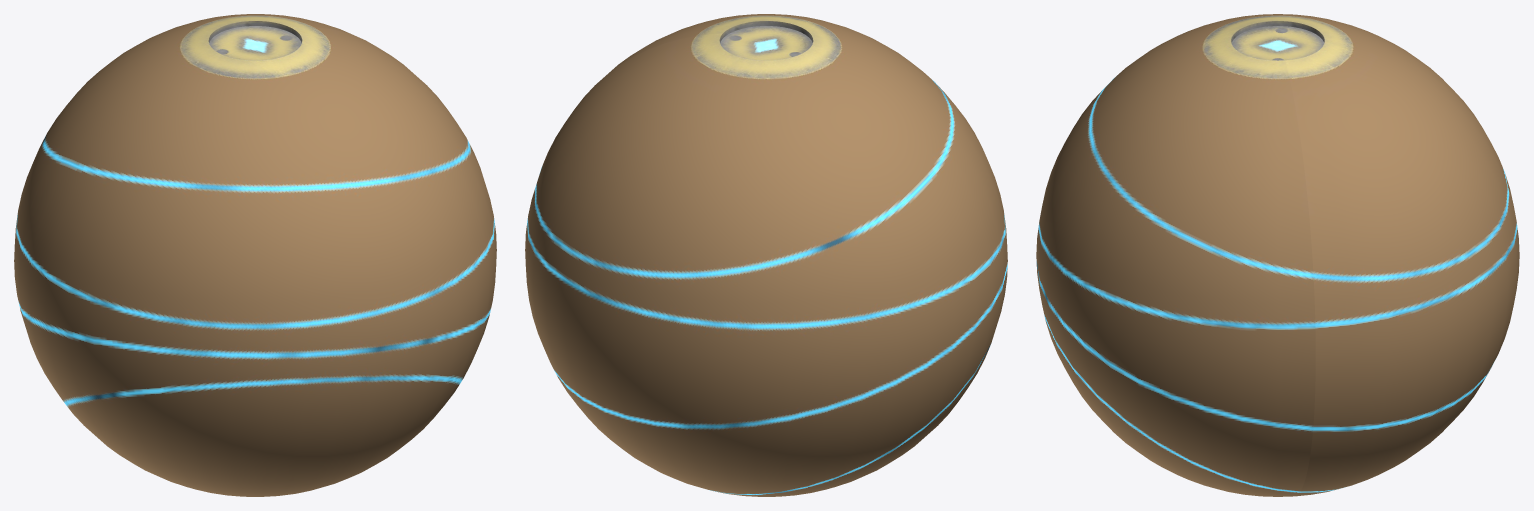
The model's file is OrbPickup.gltf.
The picture shows the model from 3 angles, left to right: view 1: azimuth 30°, elevation 25°; view 2: azimuth 150°, elevation 25°; view 3: azimuth 270°, elevation 25°; orthographic projection.
Parts seen in each view (by area): view 1: apple_low; view 2: apple_low; view 3: apple_low.
Part boxes in pixels (box(x1,y1,x2,y2)): apple_low: box(14, 14, 496, 496); apple_low: box(525, 14, 1007, 496); apple_low: box(1036, 14, 1519, 496).
Bounding box in the file's own units: 0.3672 × 0.3636 × 0.3672.
Materials: 1 (1 with a texture image).
